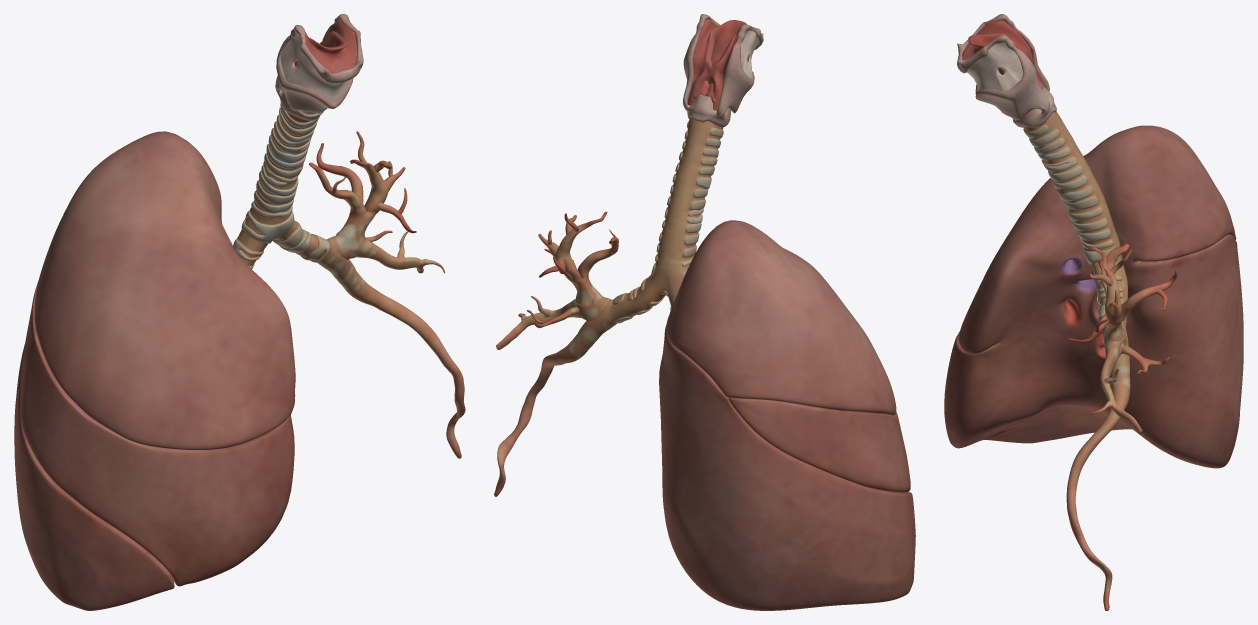
Rendered from lung-right.glb.
3 views of the same model, side by side, from view 1: azimuth 30°, elevation 25°; view 2: azimuth 150°, elevation 25°; view 3: azimuth 270°, elevation 25° (orthographic). The views are drawn at different scales.
Parts seen in each view (by area): view 1: RespiratoyLungGeoRightMale, RespiratoyTracheaGeoMale, RespiratoyThyroidCartliage., RespiratoyThyroidMembrane., RespiratoyEpiglotis.; view 2: RespiratoyLungGeoRightMale, RespiratoyTracheaGeoMale, RespiratoyThyroidCartliage., RespiratoyEpiglotis., RespiratoyThyroidMembrane.; view 3: RespiratoyLungGeoRightMale, RespiratoyTracheaGeoMale, RespiratoyThyroidCartliage., RespiratoyThyroidMembrane., RespiratoyEpiglotis..
Boxes of the visible parts, x1,y1,x2,y2 form: RespiratoyLungGeoRightMale: [14, 131, 295, 610]; RespiratoyTracheaGeoMale: [233, 102, 465, 458]; RespiratoyThyroidCartliage.: [275, 14, 363, 120]; RespiratoyThyroidMembrane.: [281, 31, 350, 103]; RespiratoyEpiglotis.: [294, 19, 357, 73]; RespiratoyLungGeoRightMale: [659, 220, 915, 610]; RespiratoyTracheaGeoMale: [494, 117, 723, 496]; RespiratoyThyroidCartliage.: [683, 14, 763, 127]; RespiratoyEpiglotis.: [687, 18, 746, 110]; RespiratoyThyroidMembrane.: [704, 20, 758, 77]; RespiratoyLungGeoRightMale: [944, 125, 1243, 468]; RespiratoyTracheaGeoMale: [1023, 111, 1177, 610]; RespiratoyThyroidCartliage.: [957, 14, 1056, 127]; RespiratoyThyroidMembrane.: [967, 21, 1023, 91]; RespiratoyEpiglotis.: [962, 20, 1043, 83].
Size of the model in its own units: 0.2724 by 0.3289 by 0.1723.
3 materials, 3 textured.
